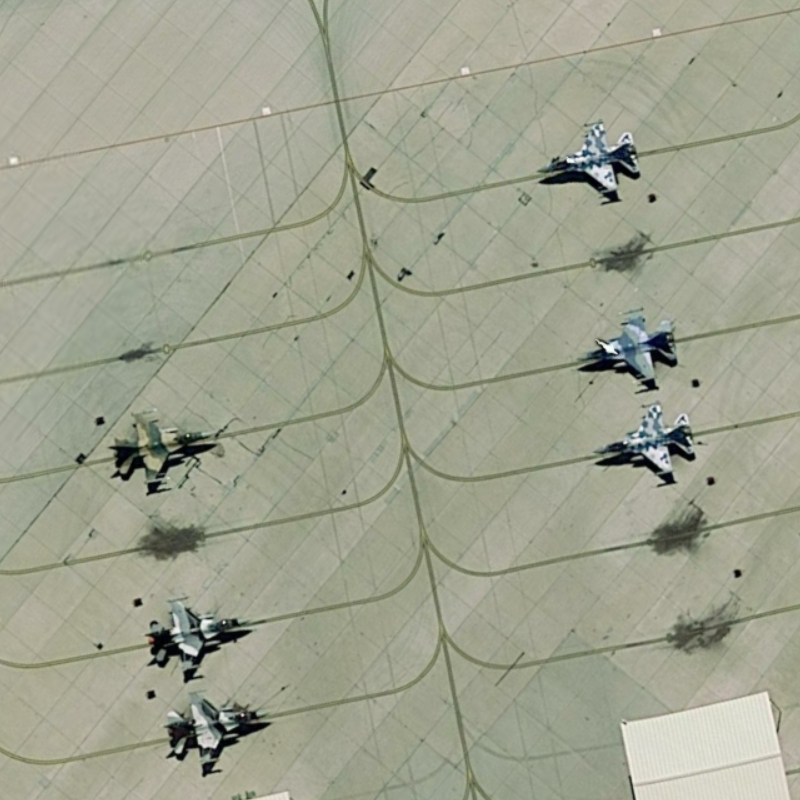A5: (521, 111, 644, 205), (142, 590, 262, 683), (585, 393, 704, 486), (571, 294, 685, 391), (160, 683, 275, 778), (104, 406, 218, 497)
